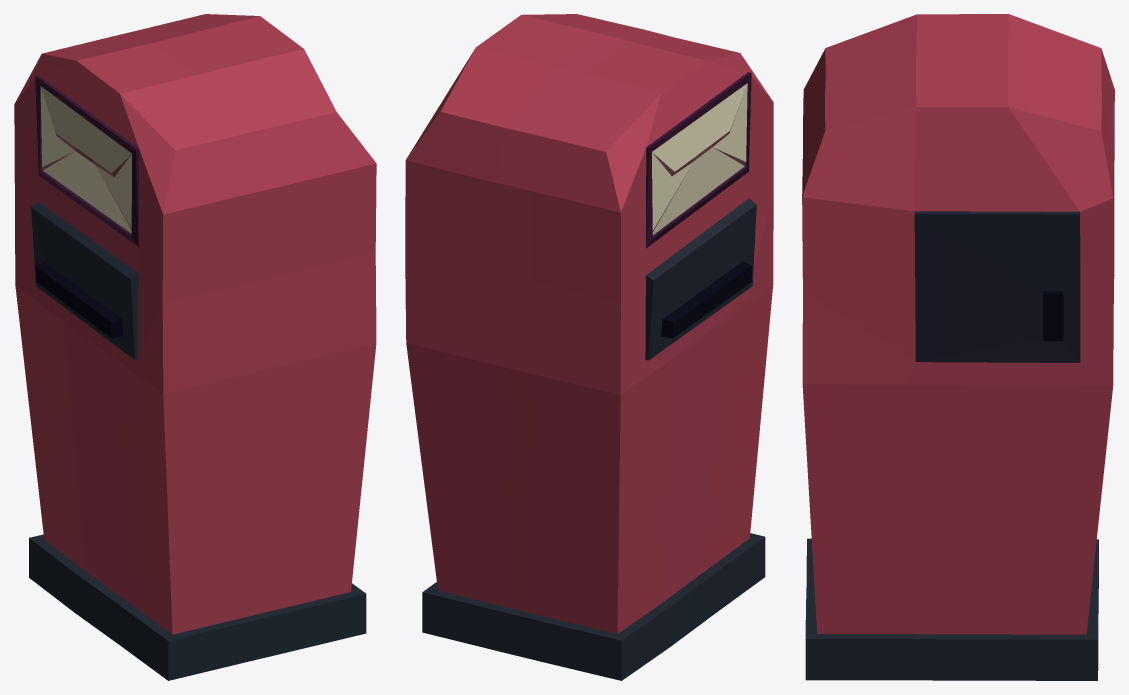
Rendered from Prop_Mailbox01.fbx.
3 views of the same model, side by side, from view 1: azimuth 30°, elevation 25°; view 2: azimuth 150°, elevation 25°; view 3: azimuth 270°, elevation 25° (orthographic). The views are drawn at different scales.
Parts seen in each view (by area): view 1: Mailbox; view 2: Mailbox; view 3: Mailbox.
Boxes of the visible parts, <box> form: Mailbox: <box>14,14,376,680</box>; Mailbox: <box>405,14,773,680</box>; Mailbox: <box>802,14,1114,680</box>.
Size of the model in its own units: 36.87 by 80.27 by 39.95.
